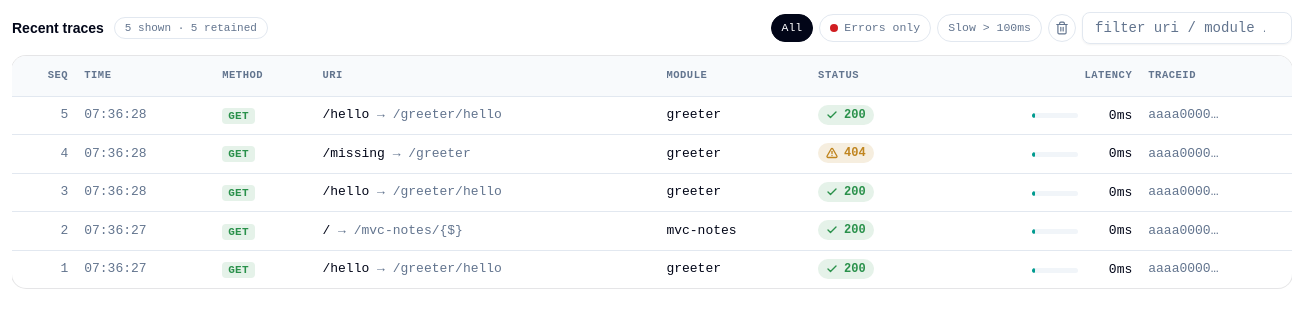
Scenario: a refused delete › says the history was NOT deleted, and keeps the rows visible
This screenshot has width=1304, height=336.
Click the button named "Clear retained trace history" at [1062, 28], box [1048,14,1076,42]
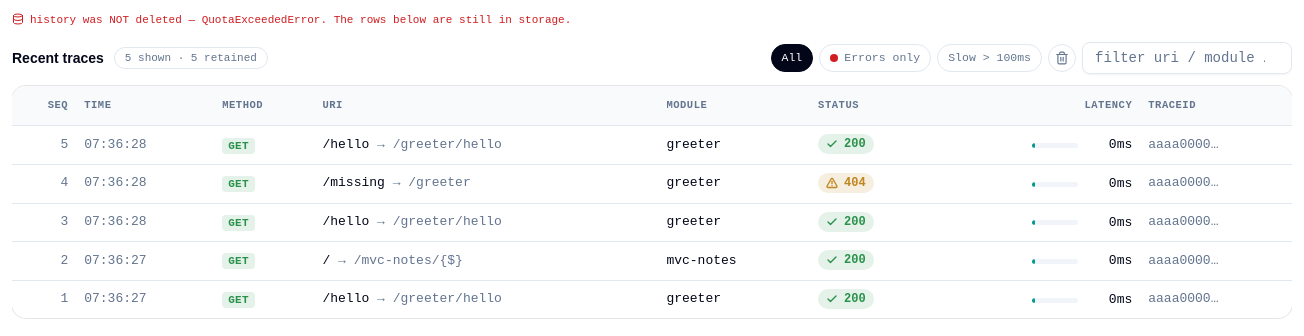
Expected: the text "history was NOT deleted" shows "QuotaExceededError", [30,14,571,26]
Expected: the text "history was NOT deleted" shows "still in storage", [30,14,571,26]
